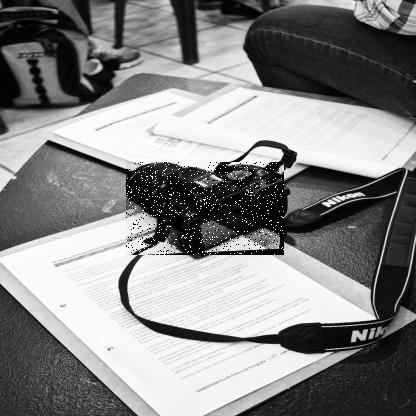Camera: (127, 164, 286, 258)
